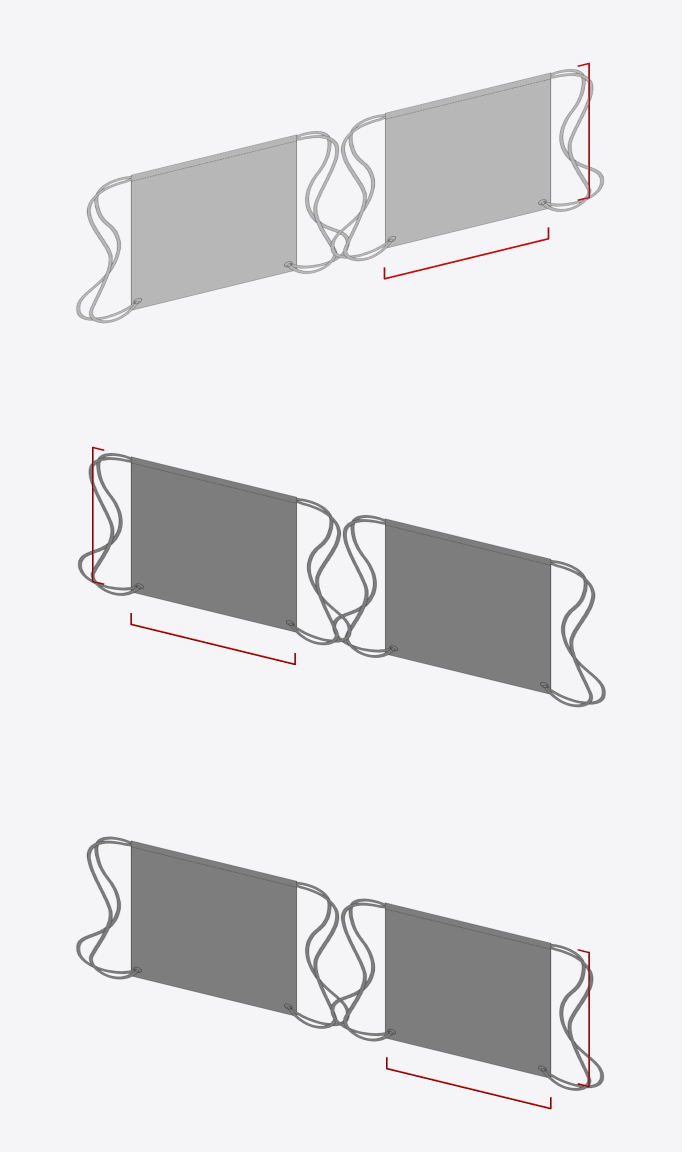
File: 无纺布袋-束口.glb
3 views of the same model, one above another, from view 1: azimuth 30°, elevation 25°; view 2: azimuth 150°, elevation 25°; view 3: azimuth 330°, elevation 25° (orthographic).
Visible parts, largest first — view 1: bag; view 2: bag; view 3: bag.
Part boxes in pixels (left/top/right/bottom): bag: left=76, top=69, right=603, bottom=323; bag: left=78, top=453, right=605, bottom=707; bag: left=76, top=836, right=603, bottom=1090.
Size of the model in its own units: 1.18 by 0.3401 by 0.00545.
Materials: 2 (1 with a texture image).
